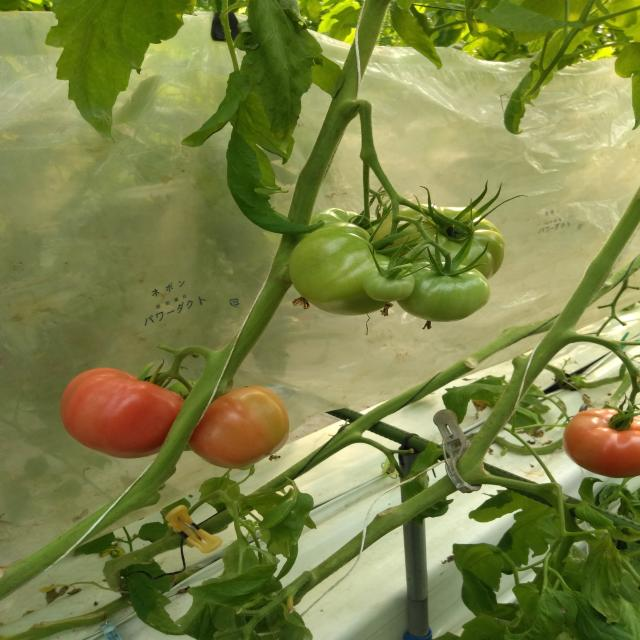n-half-riped: (188, 386, 290, 469), (562, 408, 640, 478)
n-riped: (59, 368, 184, 460)
n-unriped: (290, 222, 402, 316), (373, 204, 505, 280), (396, 262, 492, 322), (306, 207, 384, 238), (362, 266, 415, 302)
